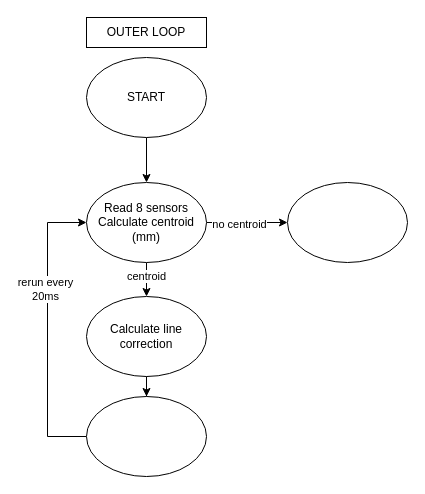
The diagram is 425 pixels wide and 494 high, and some of its shapes have lost their labels. The box of each missing label's shape, as (x1, y1, x2, y2) in pixels:
Calculate setpoint and publish to MotorData: (86, 396, 206, 476)
Stop line following Set vel = 0: (286, 182, 408, 262)
